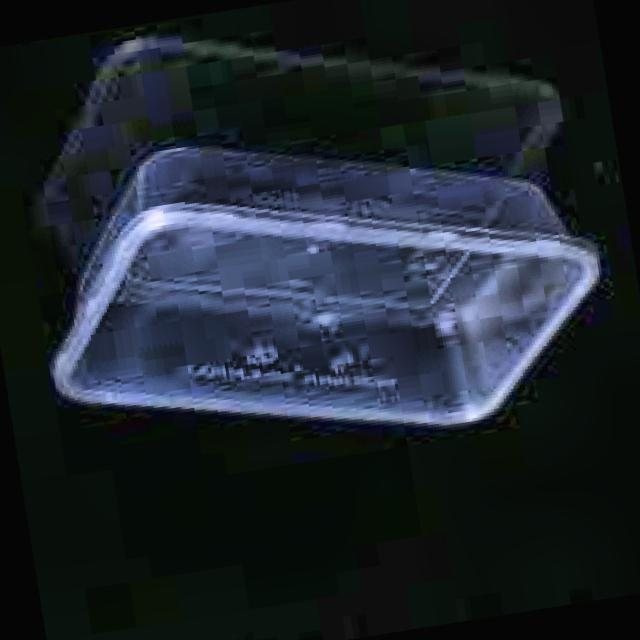plastic container: (51, 148, 599, 422)
